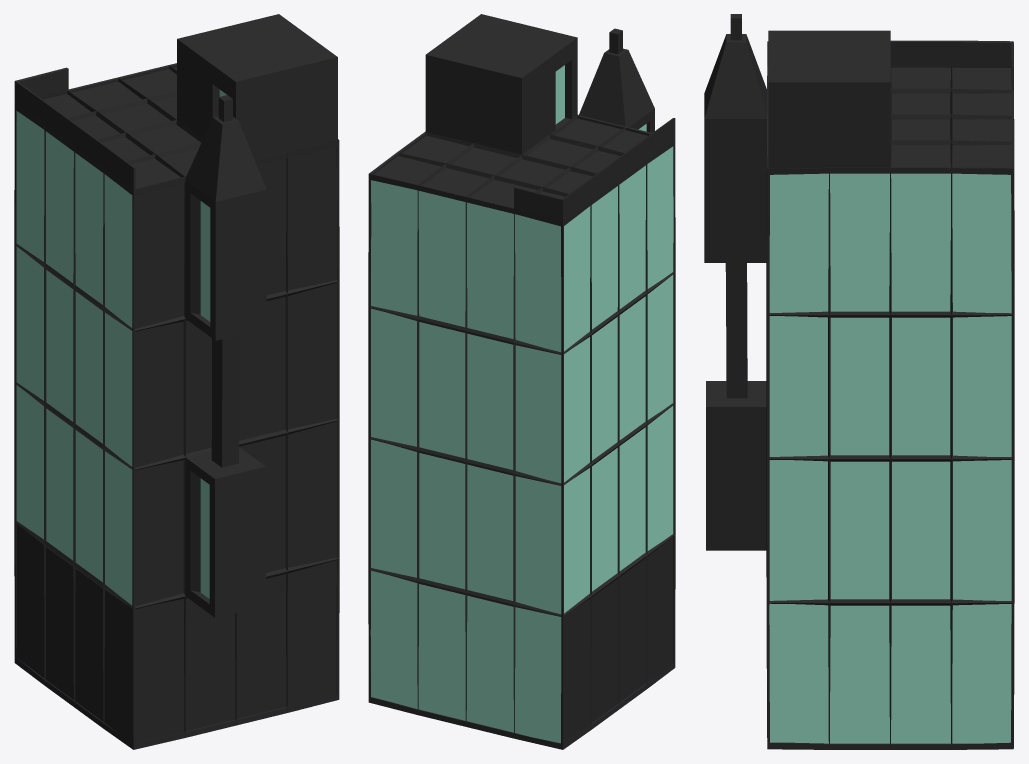
File: P_BUILDING 1.fbx
3 views of the same model, side by side, from view 1: azimuth 30°, elevation 25°; view 2: azimuth 150°, elevation 25°; view 3: azimuth 270°, elevation 25° (orthographic). The views are drawn at different scales.
Visible parts, largest first — view 1: Bangunan 2; view 2: Bangunan 2; view 3: Bangunan 2.
Boxes of the visible parts, x1,y1,x2,y2 form: Bangunan 2: [14, 14, 339, 749]; Bangunan 2: [368, 14, 675, 749]; Bangunan 2: [704, 14, 1014, 749].
Bounding box in the file's own units: 1911 × 1528 × 4554.
